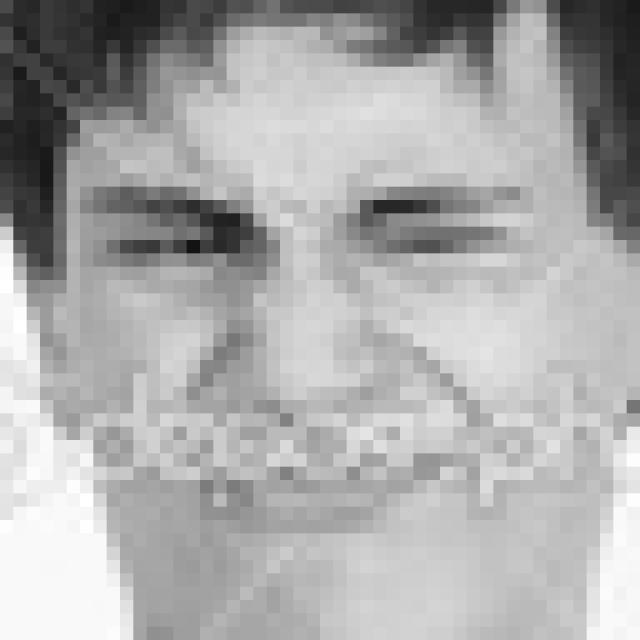disgust: (92, 131, 553, 563)
